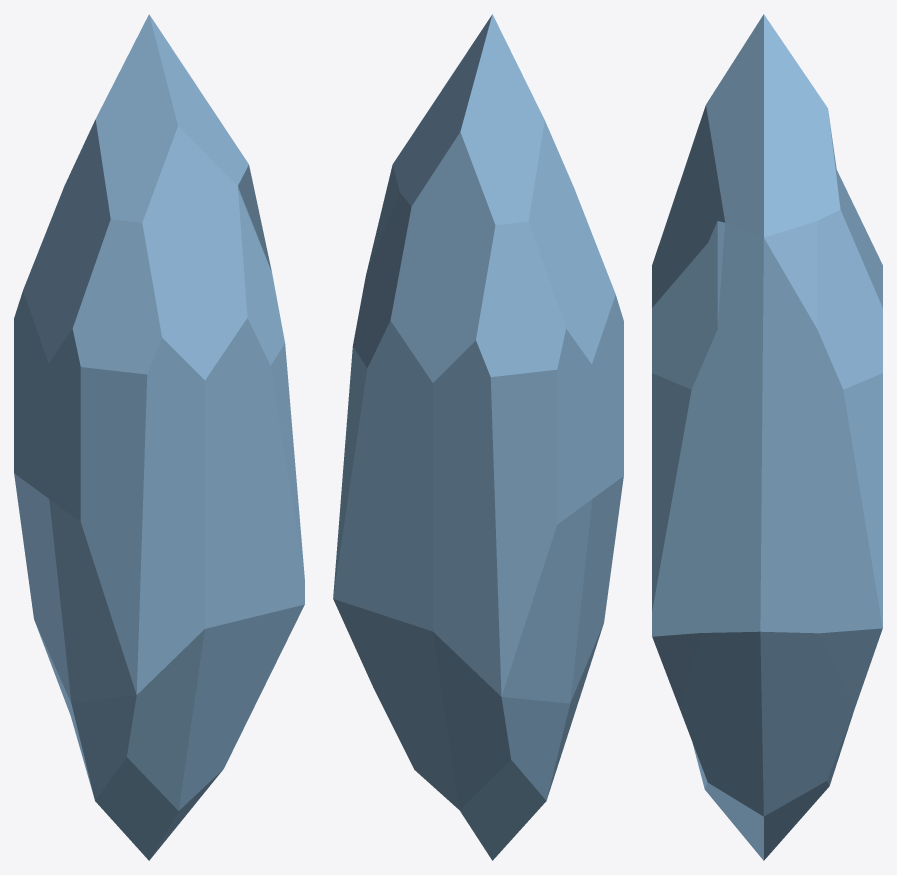
Rendered from firstCrystal.glb.
The picture shows the model from 3 angles, left to right: view 1: azimuth 30°, elevation 25°; view 2: azimuth 150°, elevation 25°; view 3: azimuth 270°, elevation 25°; orthographic projection.
Parts seen in each view (by area): view 1: MainCrystal; view 2: MainCrystal; view 3: MainCrystal.
Boxes of the visible parts, <box> form: MainCrystal: <box>14,14,304,860</box>; MainCrystal: <box>333,14,623,860</box>; MainCrystal: <box>652,14,882,860</box>.
Size of the model in its own units: 1.74 by 6.08 by 1.5.
